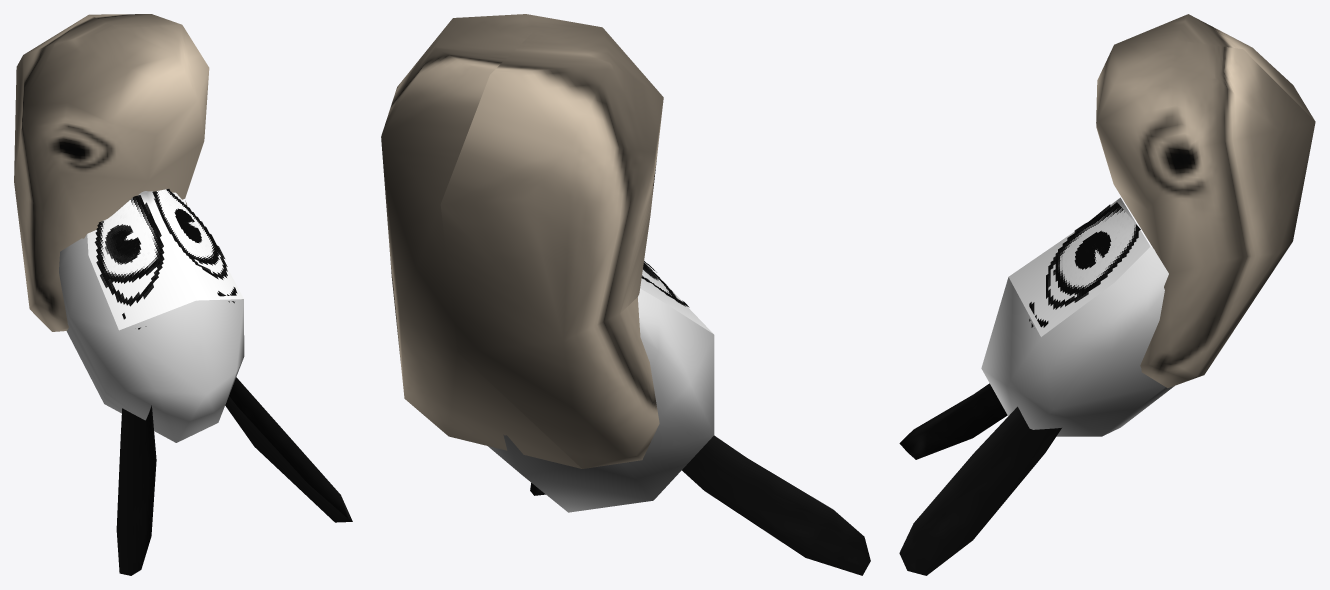
File: hls_500.glb
3 views of the same model, side by side, from view 1: azimuth 30°, elevation 25°; view 2: azimuth 150°, elevation 25°; view 3: azimuth 270°, elevation 25° (orthographic). The views are drawn at different scales.
Parts seen in each view (by area): view 1: muzzle-short-neutral, head-long, ears-short, eyes-long, head-front-long, joint_pupilL_long, joint_pupilR_long; view 2: muzzle-short-neutral, head-long, ears-short, head-front-long; view 3: muzzle-short-neutral, head-long, ears-short, eyes-long, head-front-long, joint_pupilR_long.
Boxes of the visible parts, <box> form: muzzle-short-neutral: <box>14,14,209,331</box>; head-long: <box>59,234,244,442</box>; ears-short: <box>116,377,352,575</box>; eyes-long: <box>94,189,237,329</box>; head-front-long: <box>87,191,243,330</box>; joint_pupilL_long: <box>104,224,141,264</box>; joint_pupilR_long: <box>174,208,201,243</box>; muzzle-short-neutral: <box>381,14,663,468</box>; head-long: <box>488,288,714,512</box>; ears-short: <box>530,435,870,575</box>; head-front-long: <box>640,262,713,333</box>; muzzle-short-neutral: <box>1096,14,1315,388</box>; head-long: <box>981,246,1174,436</box>; ears-short: <box>899,383,1061,575</box>; eyes-long: <box>1029,202,1140,327</box>; head-front-long: <box>1008,197,1150,336</box>; joint_pupilR_long: <box>1074,230,1111,269</box>.
Bounding box in the file's own units: 1.12 × 2.04 × 1.62.
Materials: 6 (6 with a texture image).
